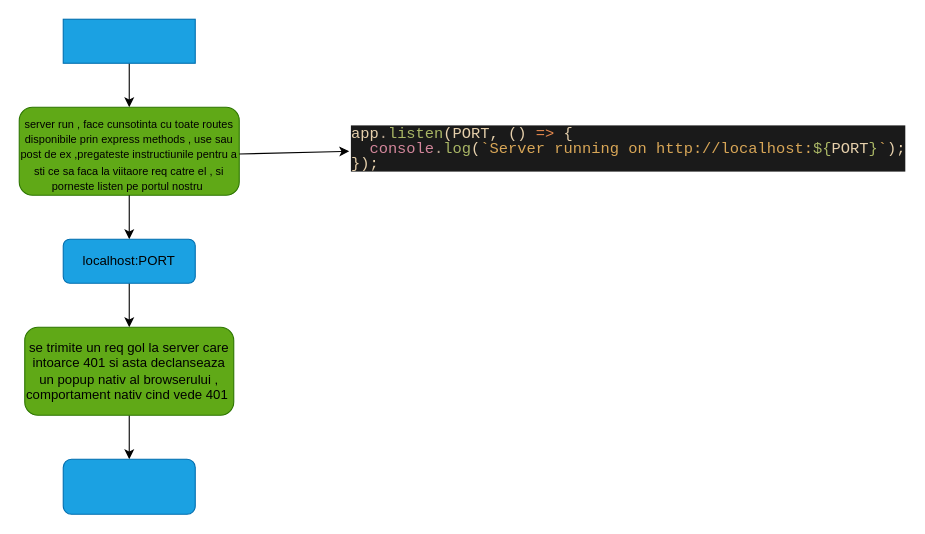
The diagram is 925 pixels wide and 534 high, and some of its shapes have lost their labels. Each missing label, with the centre of its shape:
"inseram datlee si retrimitem alt rez cu date pentru auth" belongs at pixel 128 486.
"npm start" belongs at pixel 128 40.
